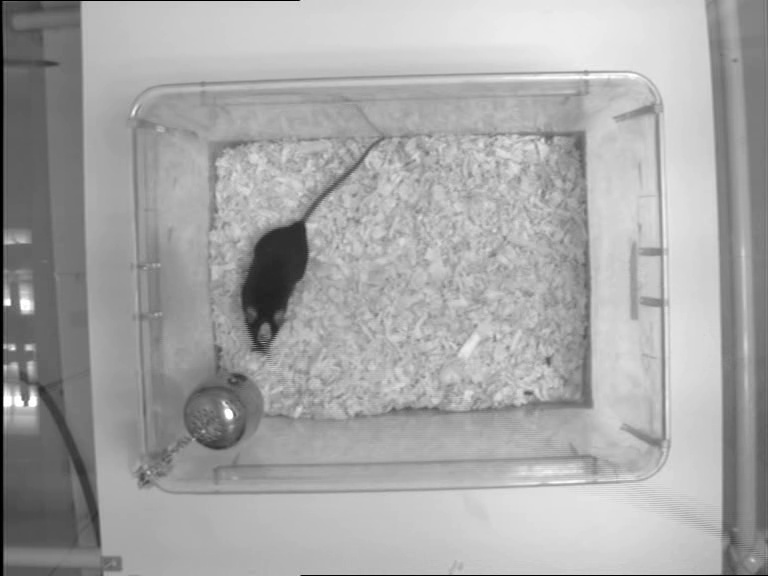mice: (243, 135, 385, 357)
